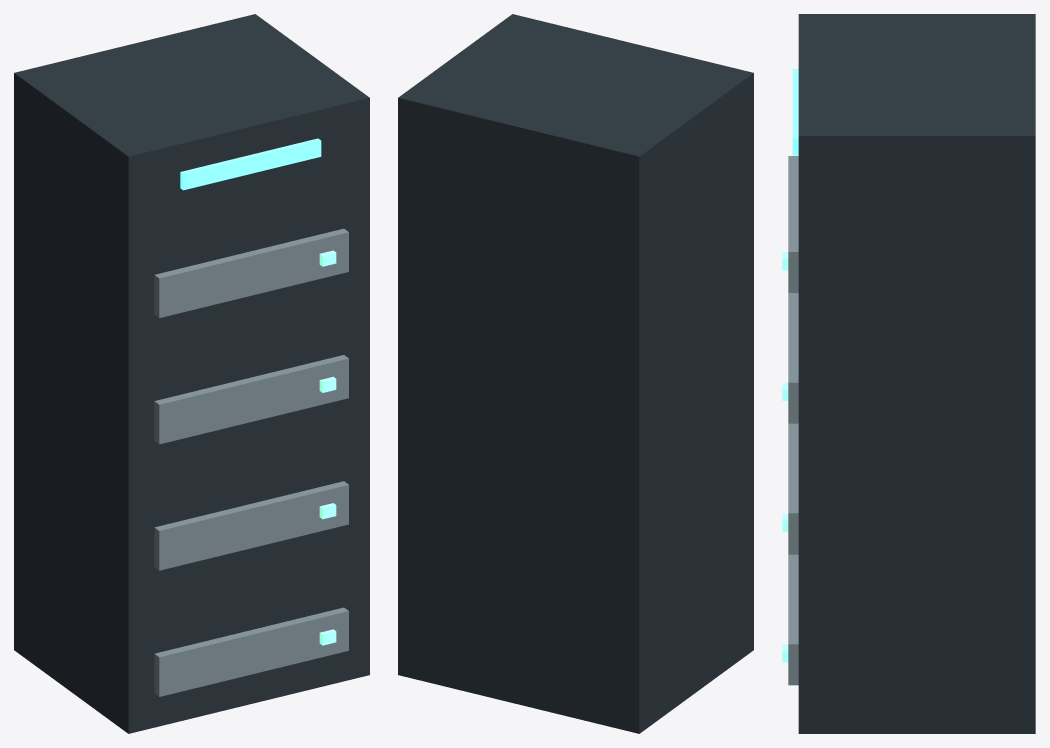
The model's file is server-rack.lod2.glb.
3 renders of one model, left to right at view 1: azimuth 30°, elevation 25°; view 2: azimuth 150°, elevation 25°; view 3: azimuth 270°, elevation 25°, orthographic. The views are drawn at different scales.
Visible parts, largest first — view 1: structure; view 2: structure; view 3: structure.
Boxes of the visible parts, box(x1,y1,x2,y2) form: structure: box(14, 14, 369, 733); structure: box(398, 14, 753, 733); structure: box(782, 14, 1035, 733).
Bounding box in the file's own units: 1.4 × 3.2 × 1.23.
